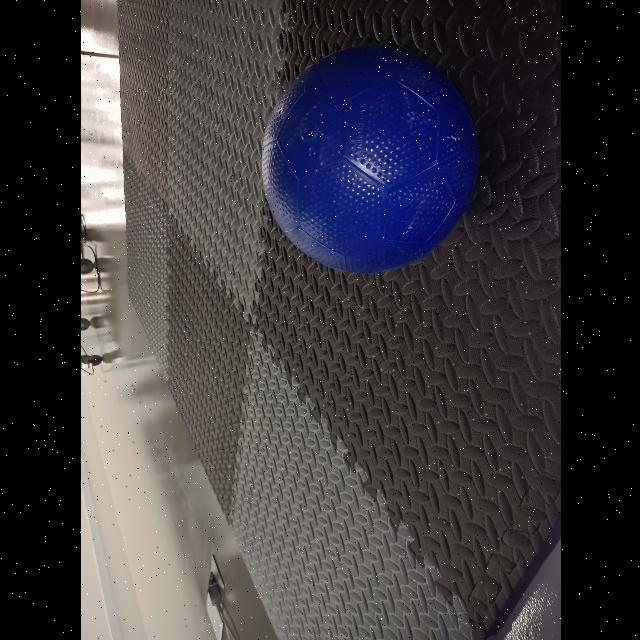B: (259, 45, 479, 274)
